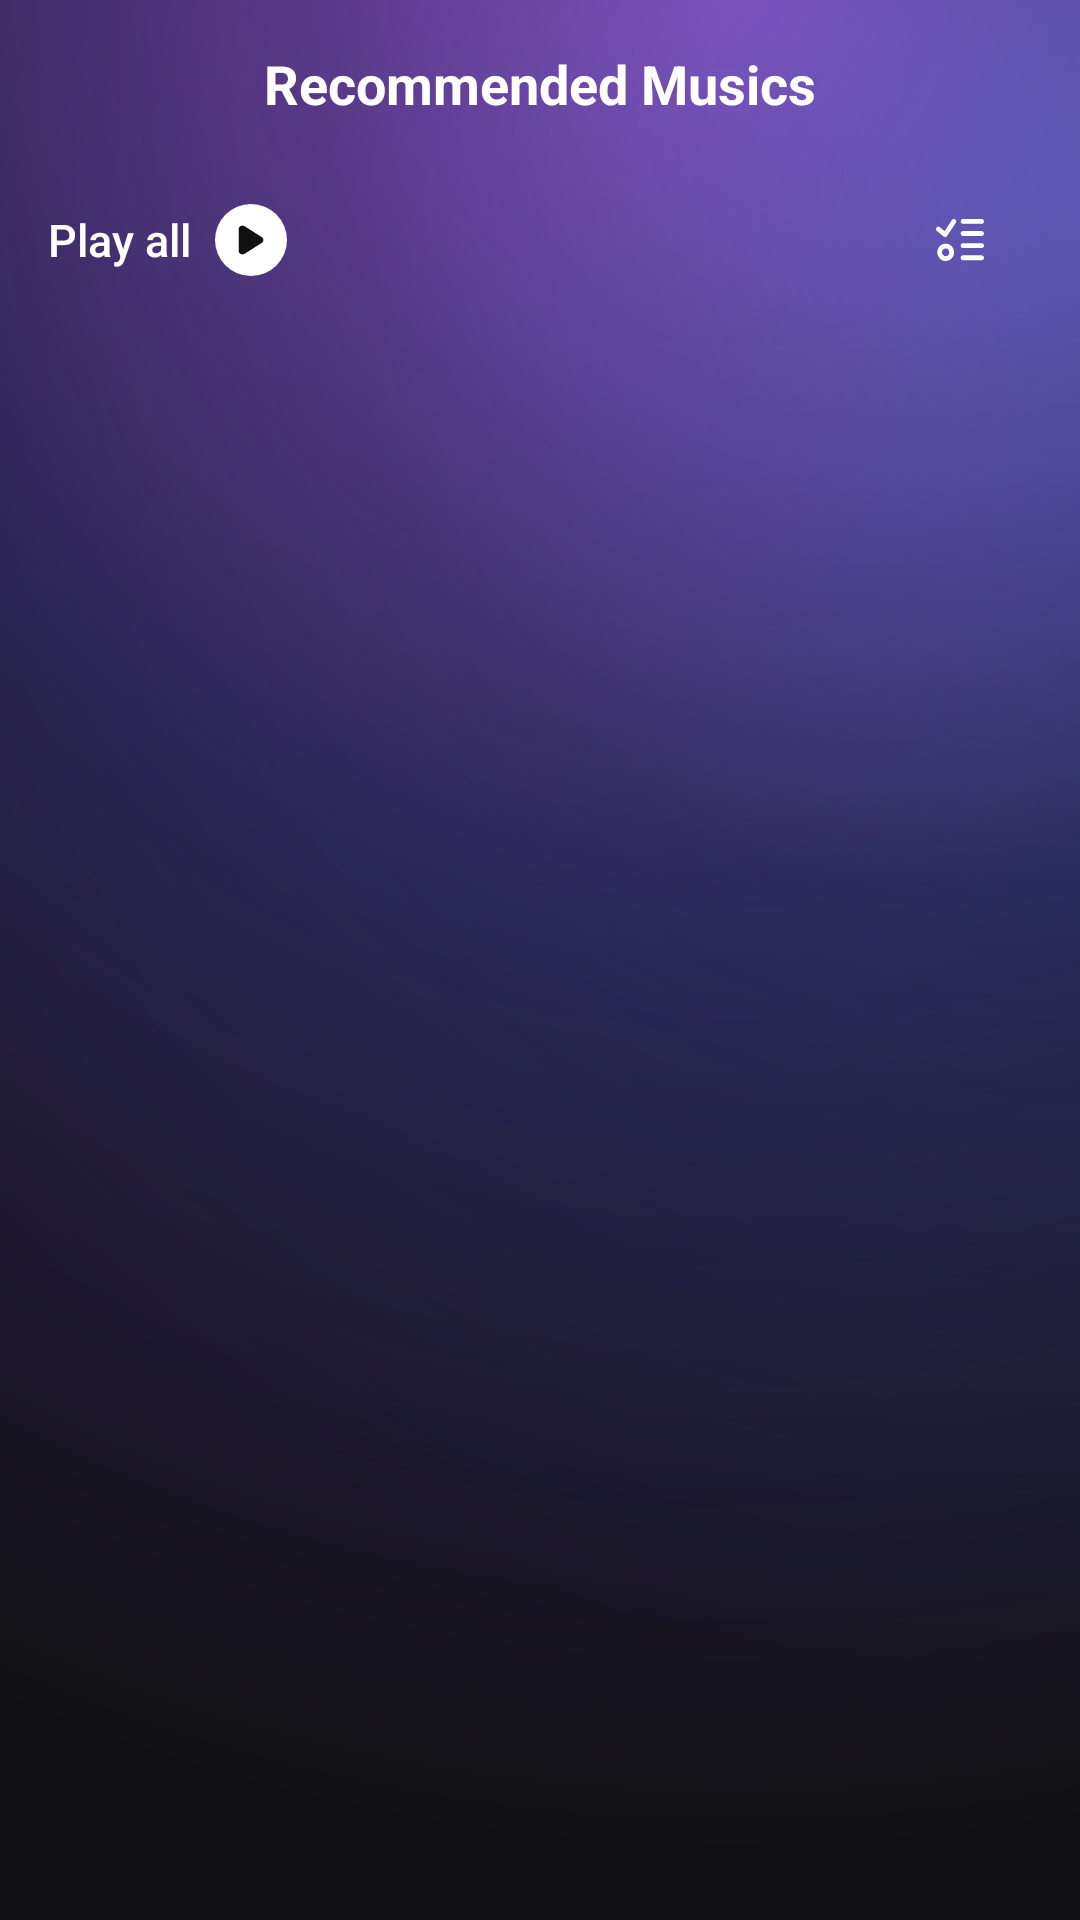

Named icons in this screenshot (1080px x 1920px) and their centers, point (x, y):
recommended play: point (251, 240)
Select multiple songs: point (960, 240)
